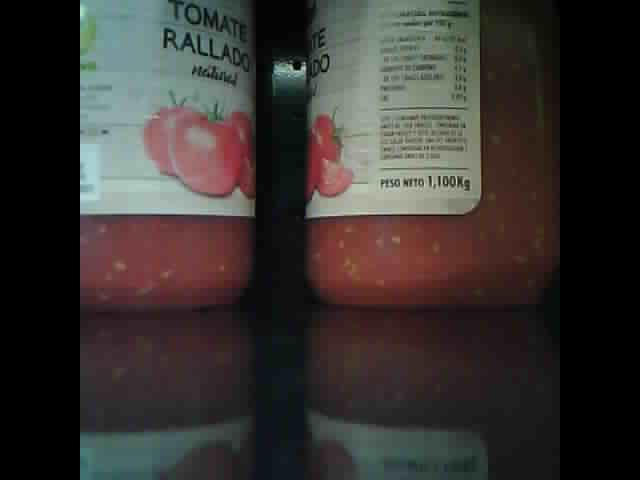tomate: (305, 3, 555, 310), (80, 2, 252, 313)
